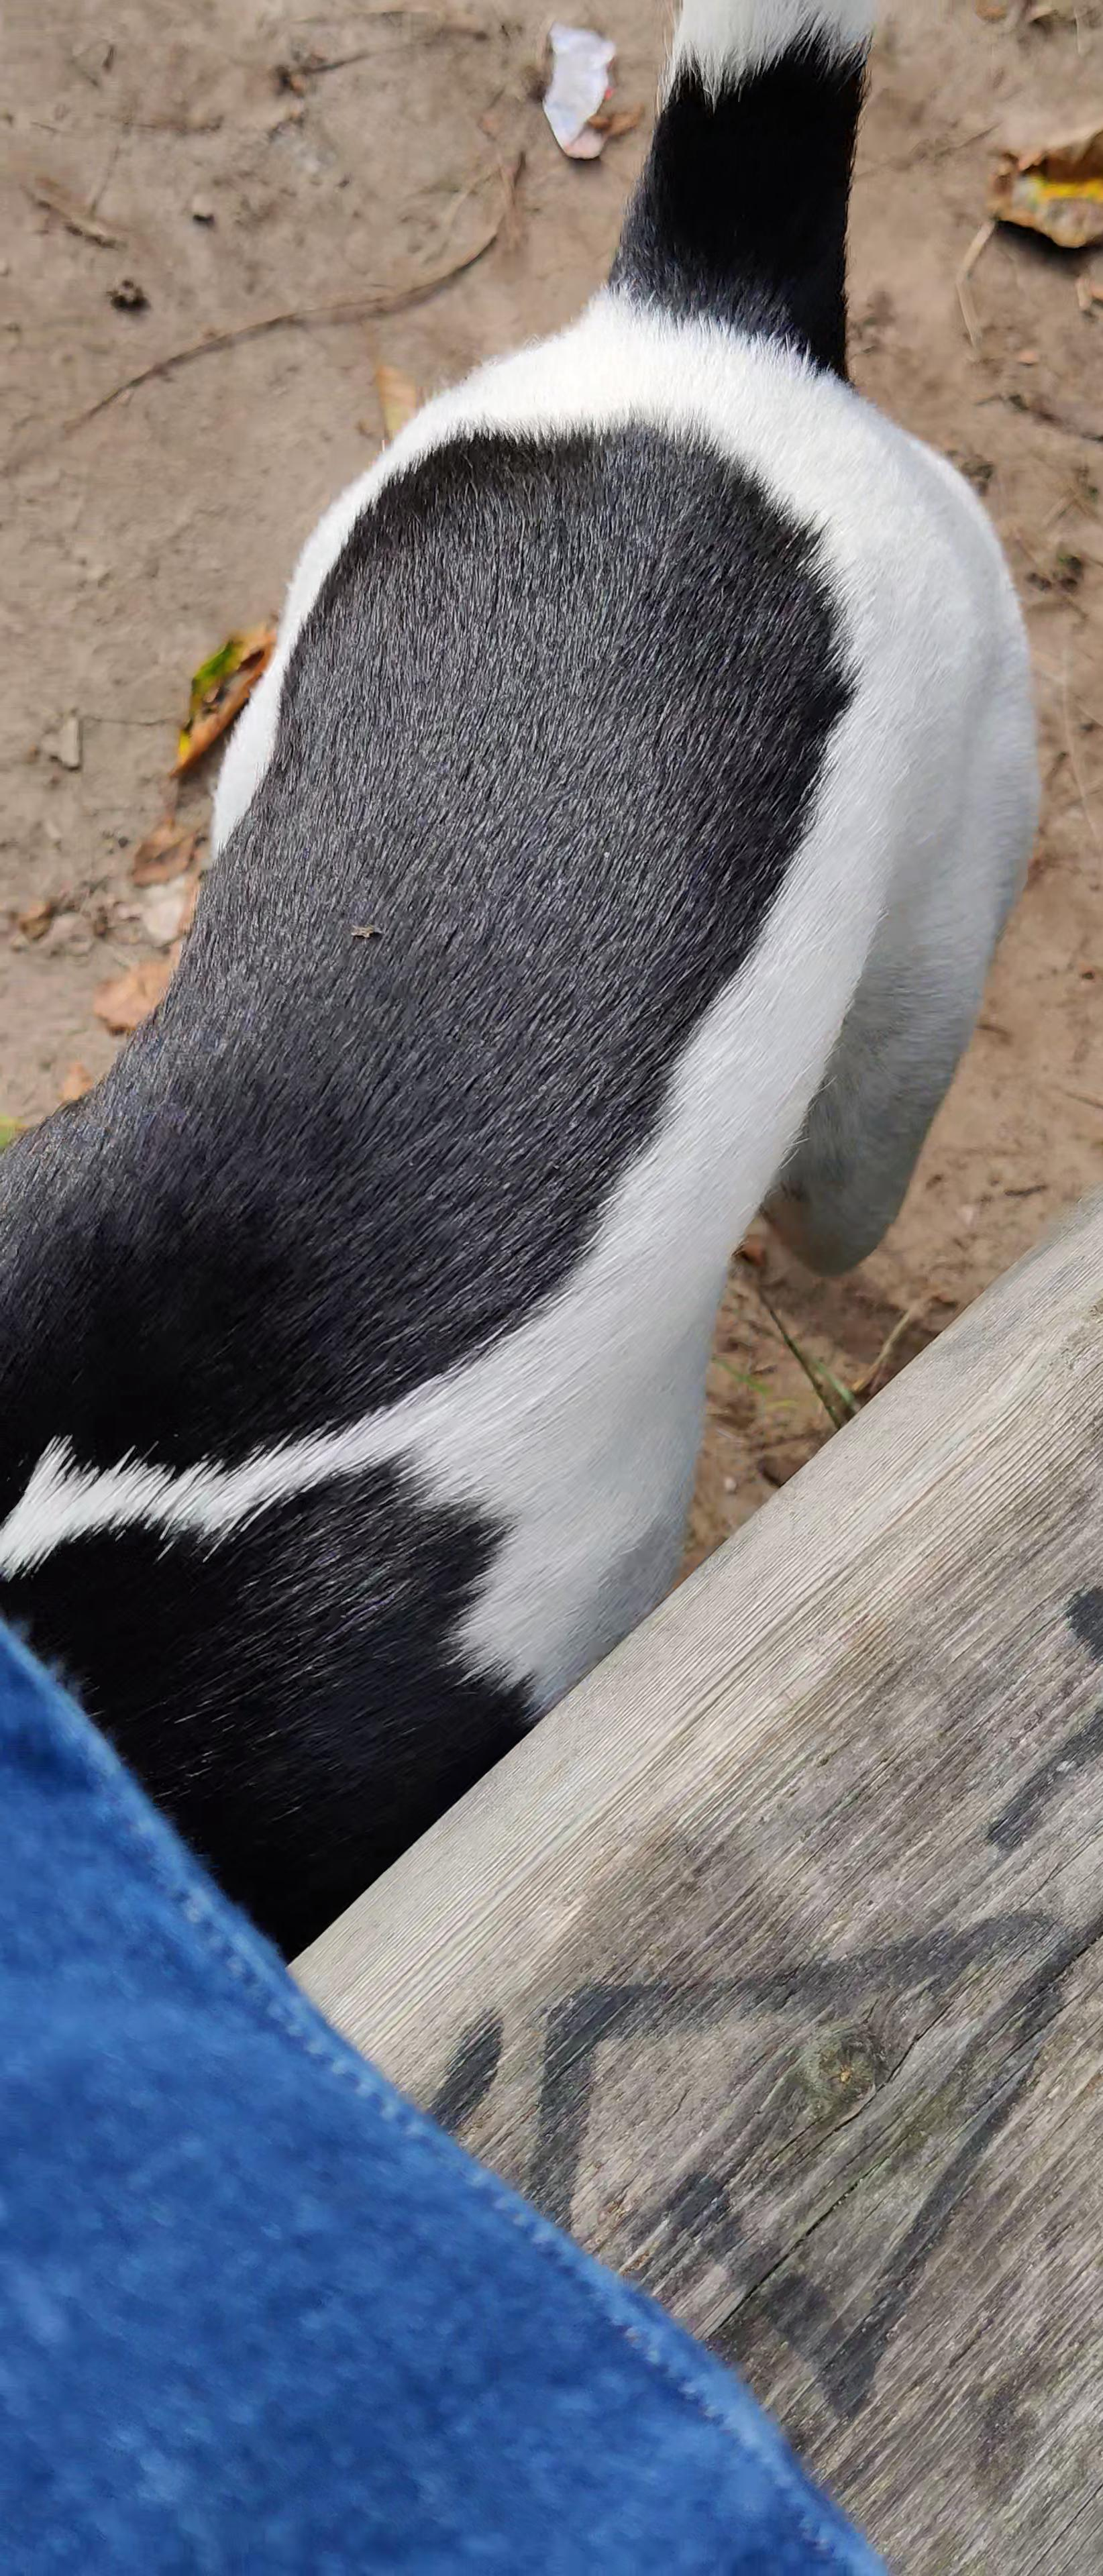Dog: (0, 0, 1103, 1981)
